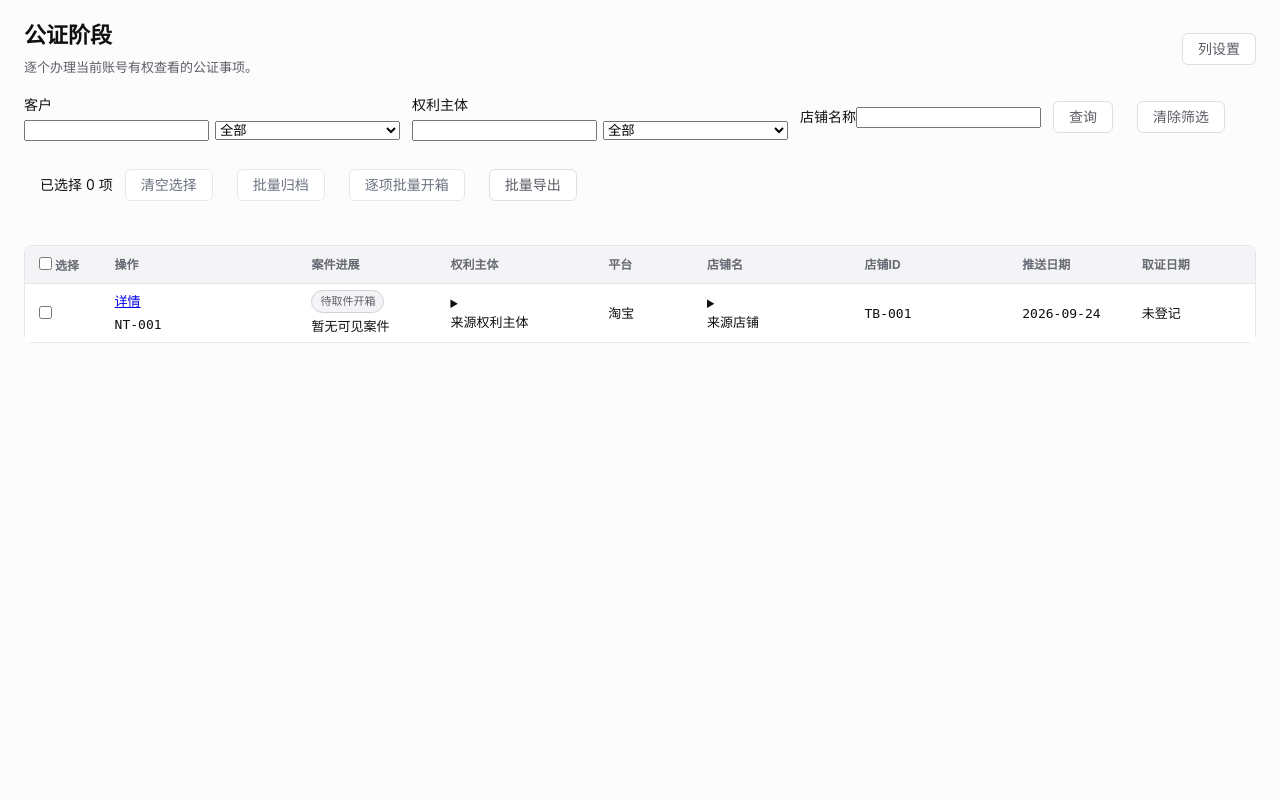
Test: NotaryMatterListPage › opens the separate per-matter unboxing workflow from the existing selection
This screenshot has width=1280, height=800.
Click the checkbox with test id "select-matter".
click(46, 312)  # box x1=39 y1=306 x2=52 y2=319
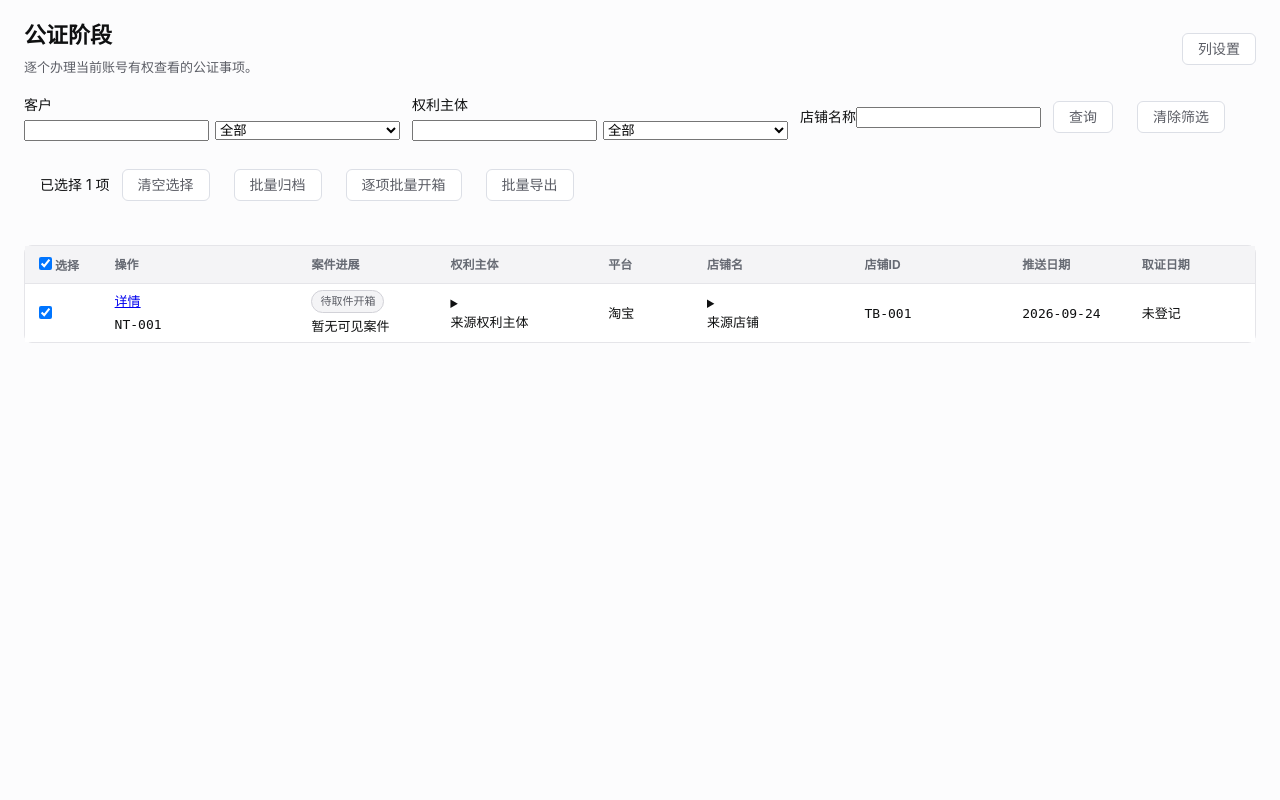
Click the button with test id "batch-opening-open".
click(404, 185)  # box x1=346 y1=169 x2=462 y2=201
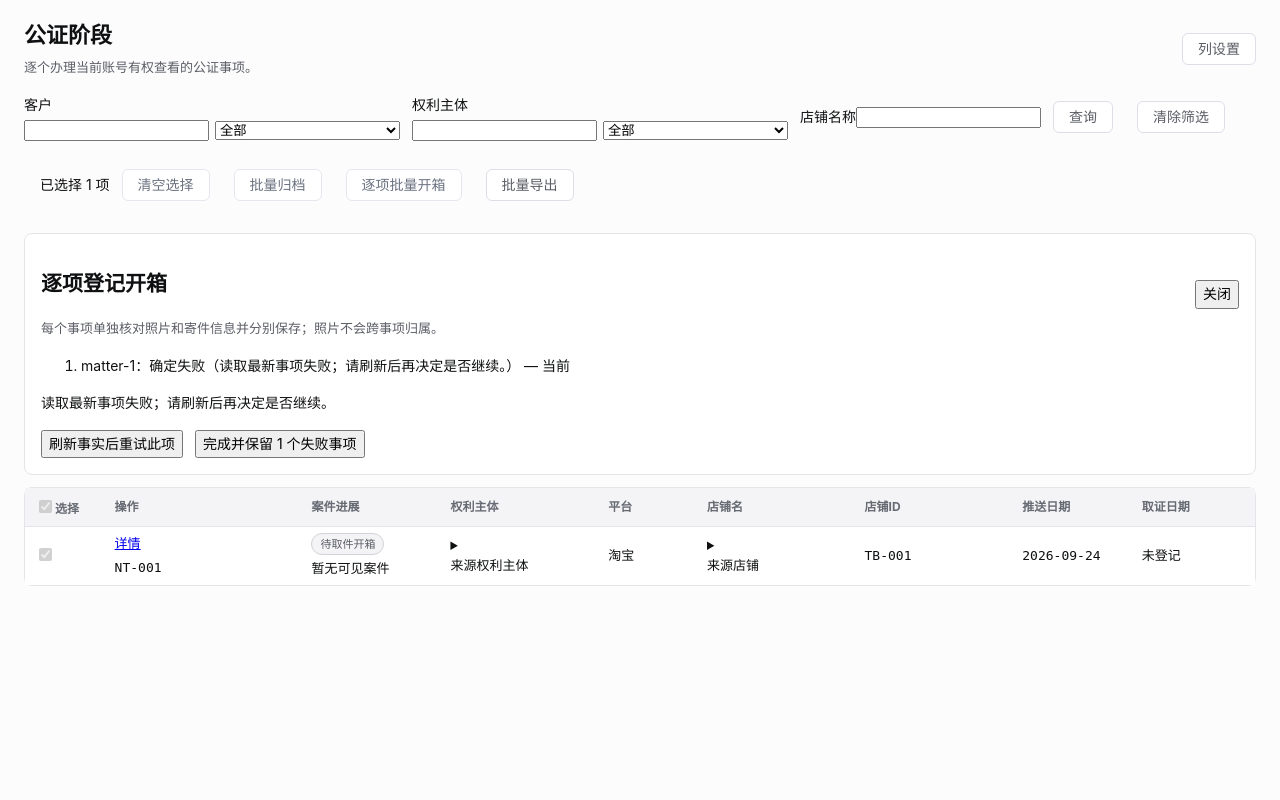
Expected: the element with test id "batch-opening-panel" is shown, x1=24 y1=233 x2=1256 y2=475
Expected: the element with test id "batch-opening-panel" shows "matter-1", x1=81 y1=357 x2=205 y2=374
Expected: the button with test id "batch-opening-close" is shown, x1=1195 y1=280 x2=1239 y2=309
